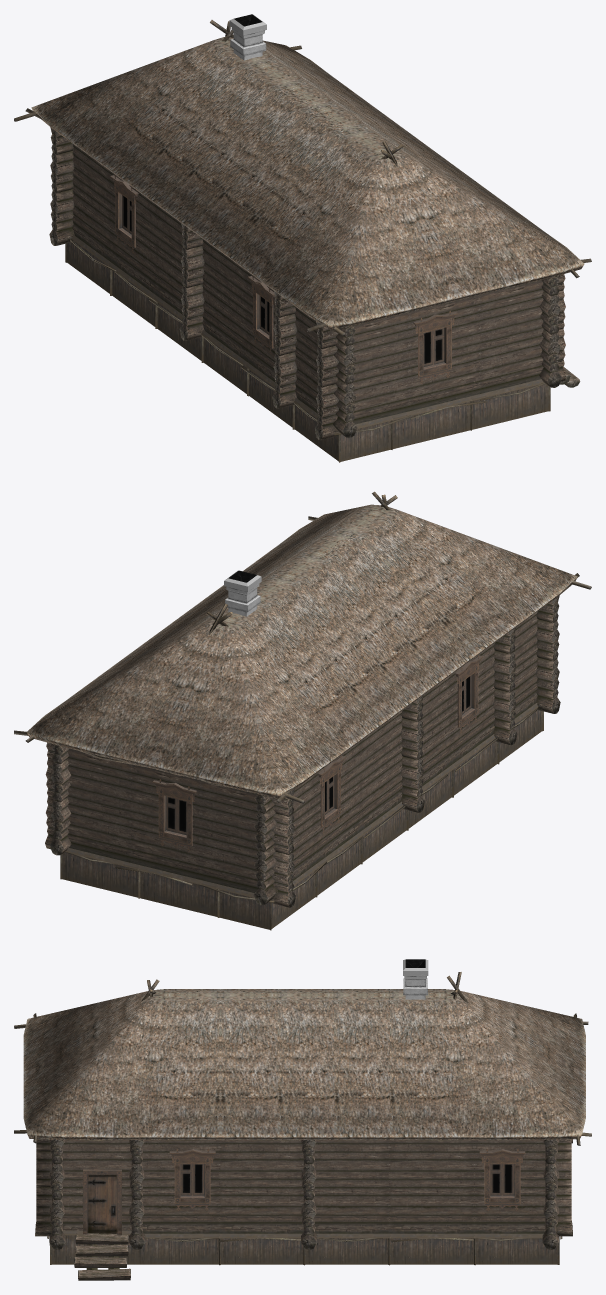
Rendered from house_3.fbx.
3 renders of one model, top to bottom at view 1: azimuth 30°, elevation 25°; view 2: azimuth 150°, elevation 25°; view 3: azimuth 270°, elevation 25°, orthographic. The views are drawn at different scales.
Parts seen in each view (by area): view 1: House_3; view 2: House_3; view 3: House_3.
Boxes of the visible parts, box(x1,y1,x2,y2) form: House_3: box(14, 14, 591, 462); House_3: box(14, 491, 591, 930); House_3: box(14, 959, 591, 1280).
Size of the model in its own units: 952 by 830 by 1714.
Materials: 1 (1 with a texture image).
